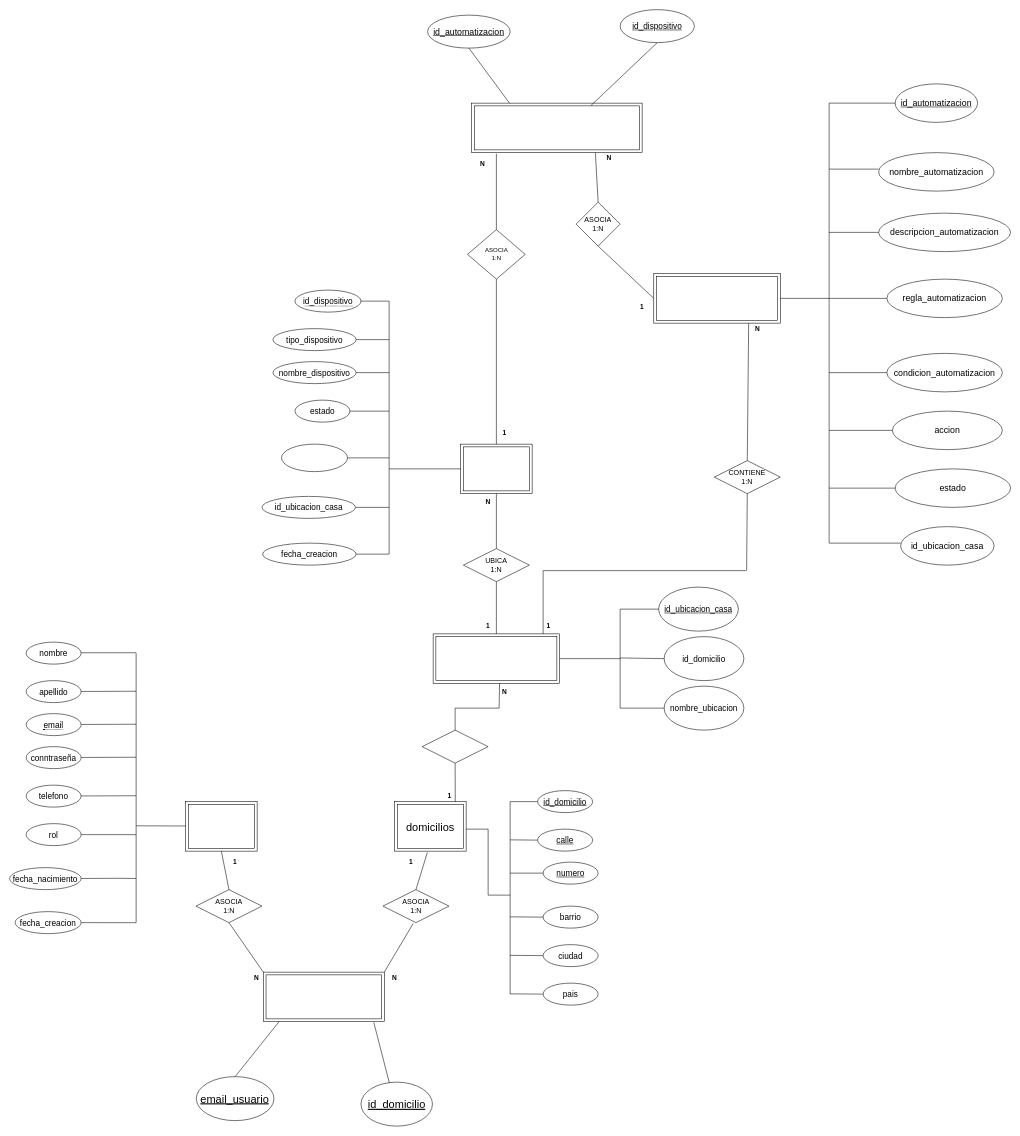
The diagram is 1020 pixels wide and 1136 high, and some of its shapes have lost their labels. Each missing label, with the centre of its shape:
"automatizaciones" goes at [716,298].
"automatizaciones_dispositivos" goes at [556,128].
"descripcion" goes at [314,458].
"dispositivos" goes at [496,469].
"INCLUYE 1:N" goes at [455,746].
"ubicaciones_casa" goes at [496,658].
"usuarios" goes at [221,826].
"usuarios_domicilios" goes at [323,997].
